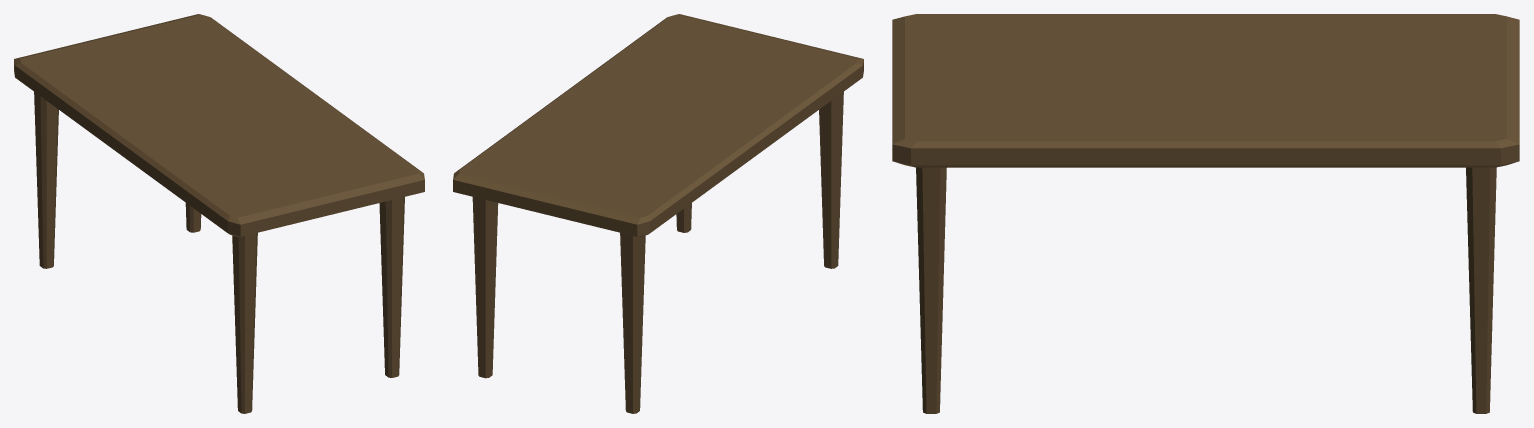
Rendered from desk.gltf.
3 renders of one model, left to right at view 1: azimuth 30°, elevation 25°; view 2: azimuth 150°, elevation 25°; view 3: azimuth 270°, elevation 25°, orthographic. The views are drawn at different scales.
Parts seen in each view (by area): view 1: desk; view 2: desk; view 3: desk.
Boxes of the visible parts, x1,y1,x2,y2 form: desk: [14, 14, 424, 413]; desk: [453, 14, 863, 413]; desk: [892, 14, 1519, 413].
Size of the model in its own units: 4 by 3.98 by 8.
